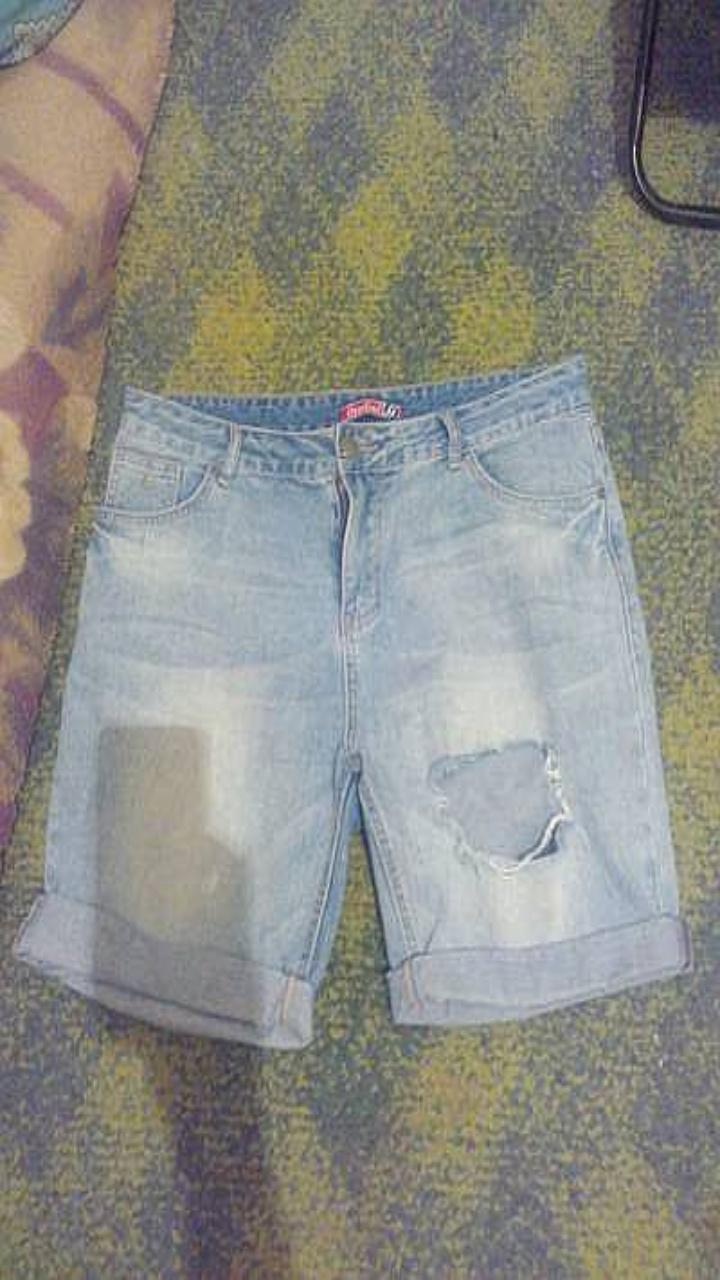Shorts: (15, 357, 689, 1047)
